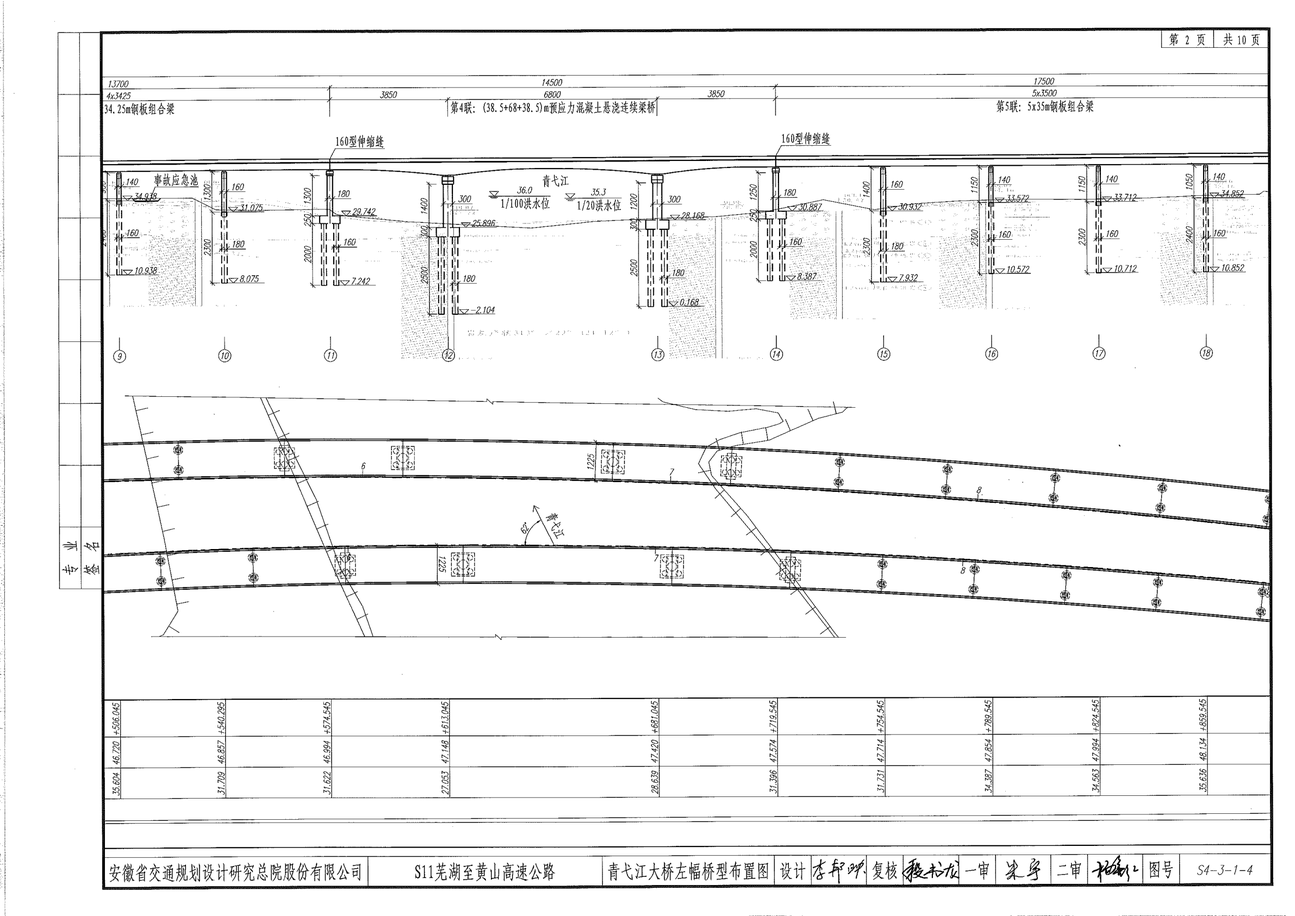A: (83, 55, 1270, 374)
